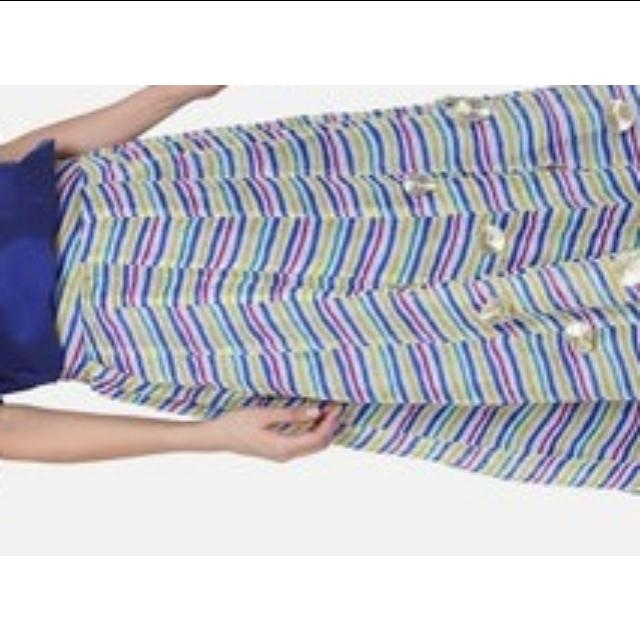polyester: (0, 138, 640, 412)
